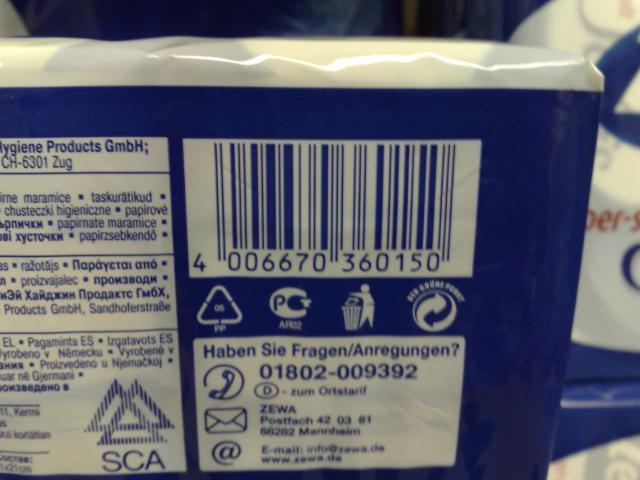Barcode: (182, 138, 482, 277)
